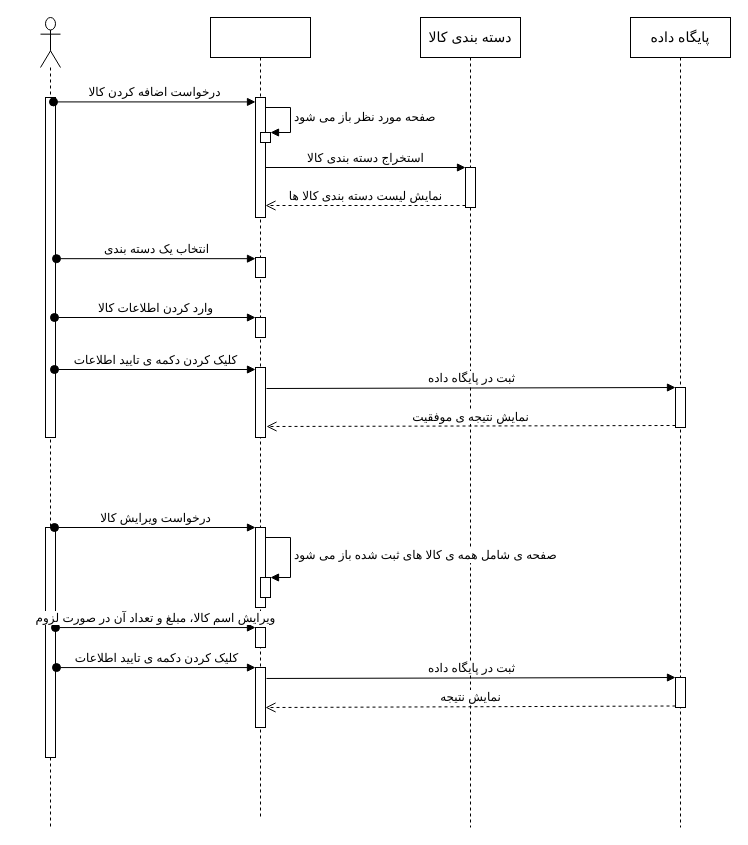
Image size: 748x845. Some labels were removed from this diagram. The centre of each missing label's shape, as x and y in pixels:
Salesperson: point 50,422
صفحه نمایش: point 260,417
